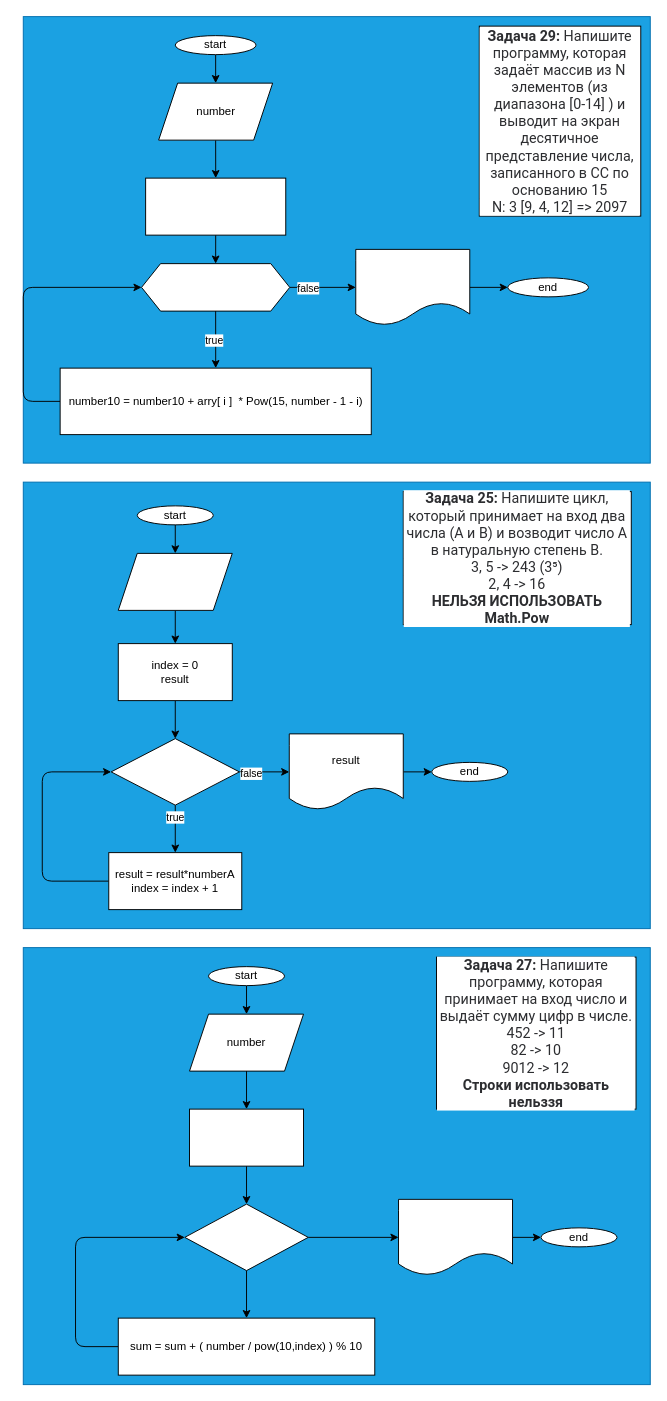
Image size: 667x1401. Some labels were removed from this diagram. The centre of each missing label's shape, as x and y in pixels:
"arry[ ] = arry[0...number] number10 = 0" belongs at (x=215, y=206).
"i, 0, number-1, 1" belongs at (x=215, y=287).
"index < numberB" belongs at (x=174, y=771).
"index < sizeNumb" belongs at (x=246, y=1237).
"number10" belongs at (x=412, y=286).
"numberA numberB" belongs at (x=174, y=581).
"sizeNumb = log10(number)+1 index = 0 sum = 0" belongs at (x=246, y=1137).
"sum" belongs at (x=455, y=1236).
